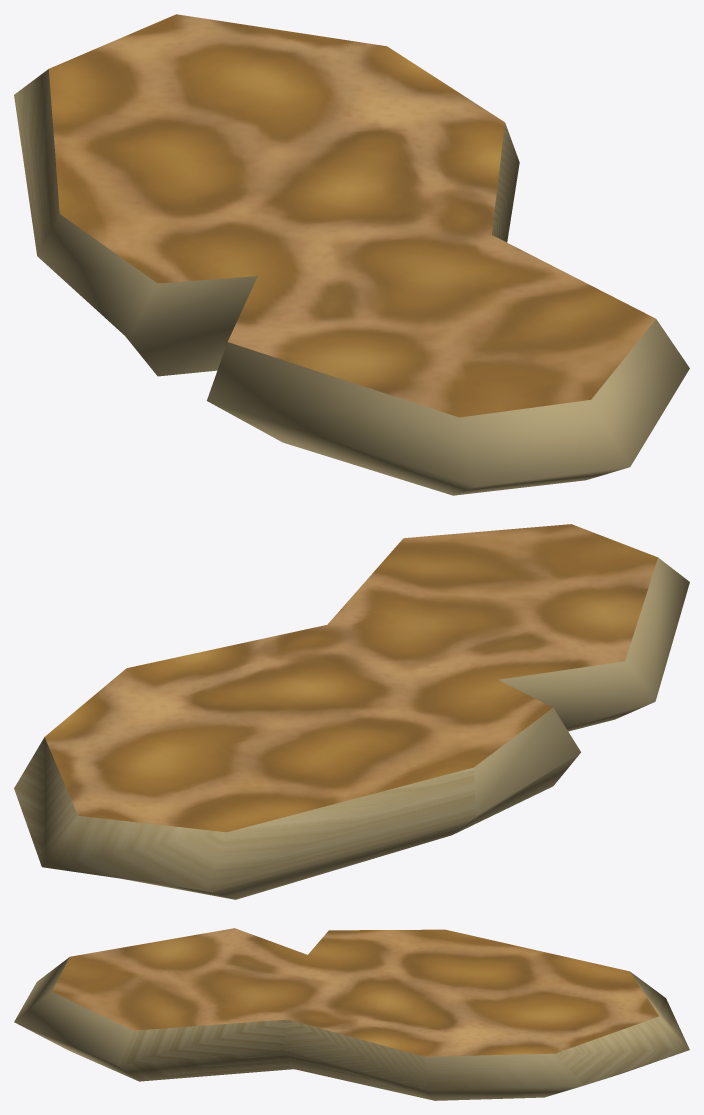
File: Rubble_3.FBX
3 renders of one model, top to bottom at view 1: azimuth 30°, elevation 25°; view 2: azimuth 150°, elevation 25°; view 3: azimuth 270°, elevation 25°, orthographic. The views are drawn at different scales.
Parts seen in each view (by area): view 1: Rubble_4; view 2: Rubble_4; view 3: Rubble_4.
Part boxes in pixels (box(x1,y1,x2,y2)): Rubble_4: box(14, 14, 689, 495); Rubble_4: box(14, 524, 689, 899); Rubble_4: box(14, 928, 689, 1100).
Size of the model in its own units: 62.51 by 11.59 by 125.
